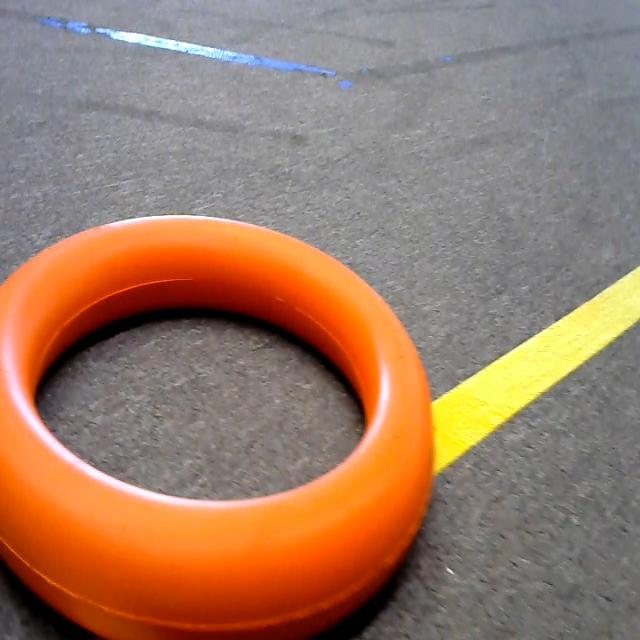note: (0, 203, 442, 640)
